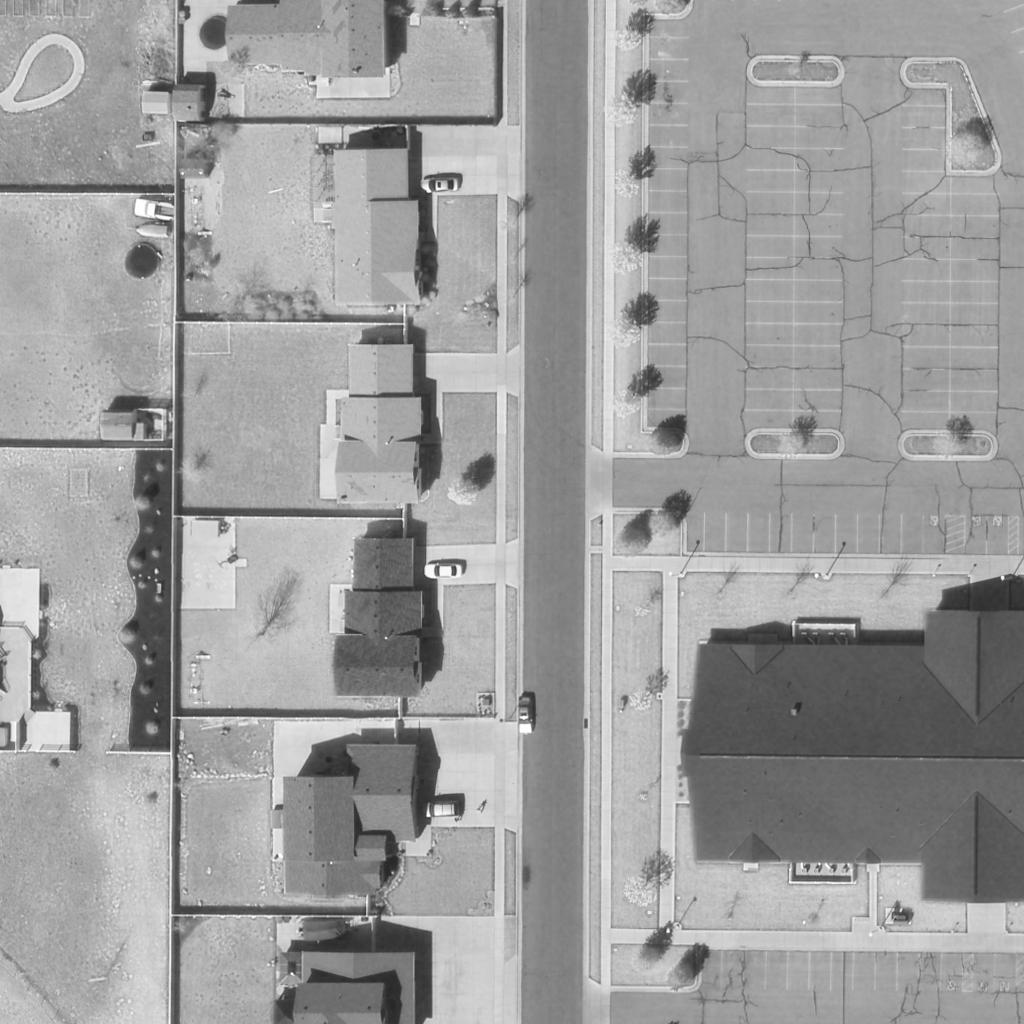vehicle: (132, 197, 176, 221), (416, 178, 462, 198), (516, 696, 536, 736), (421, 563, 463, 581), (419, 800, 459, 818), (134, 223, 172, 237)
